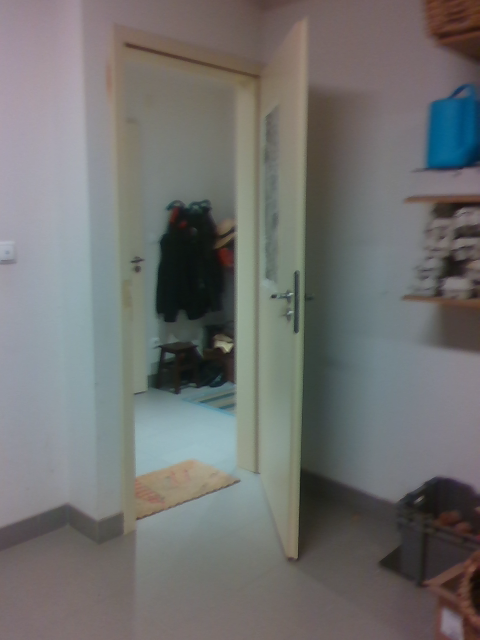open: (107, 15, 308, 562)
